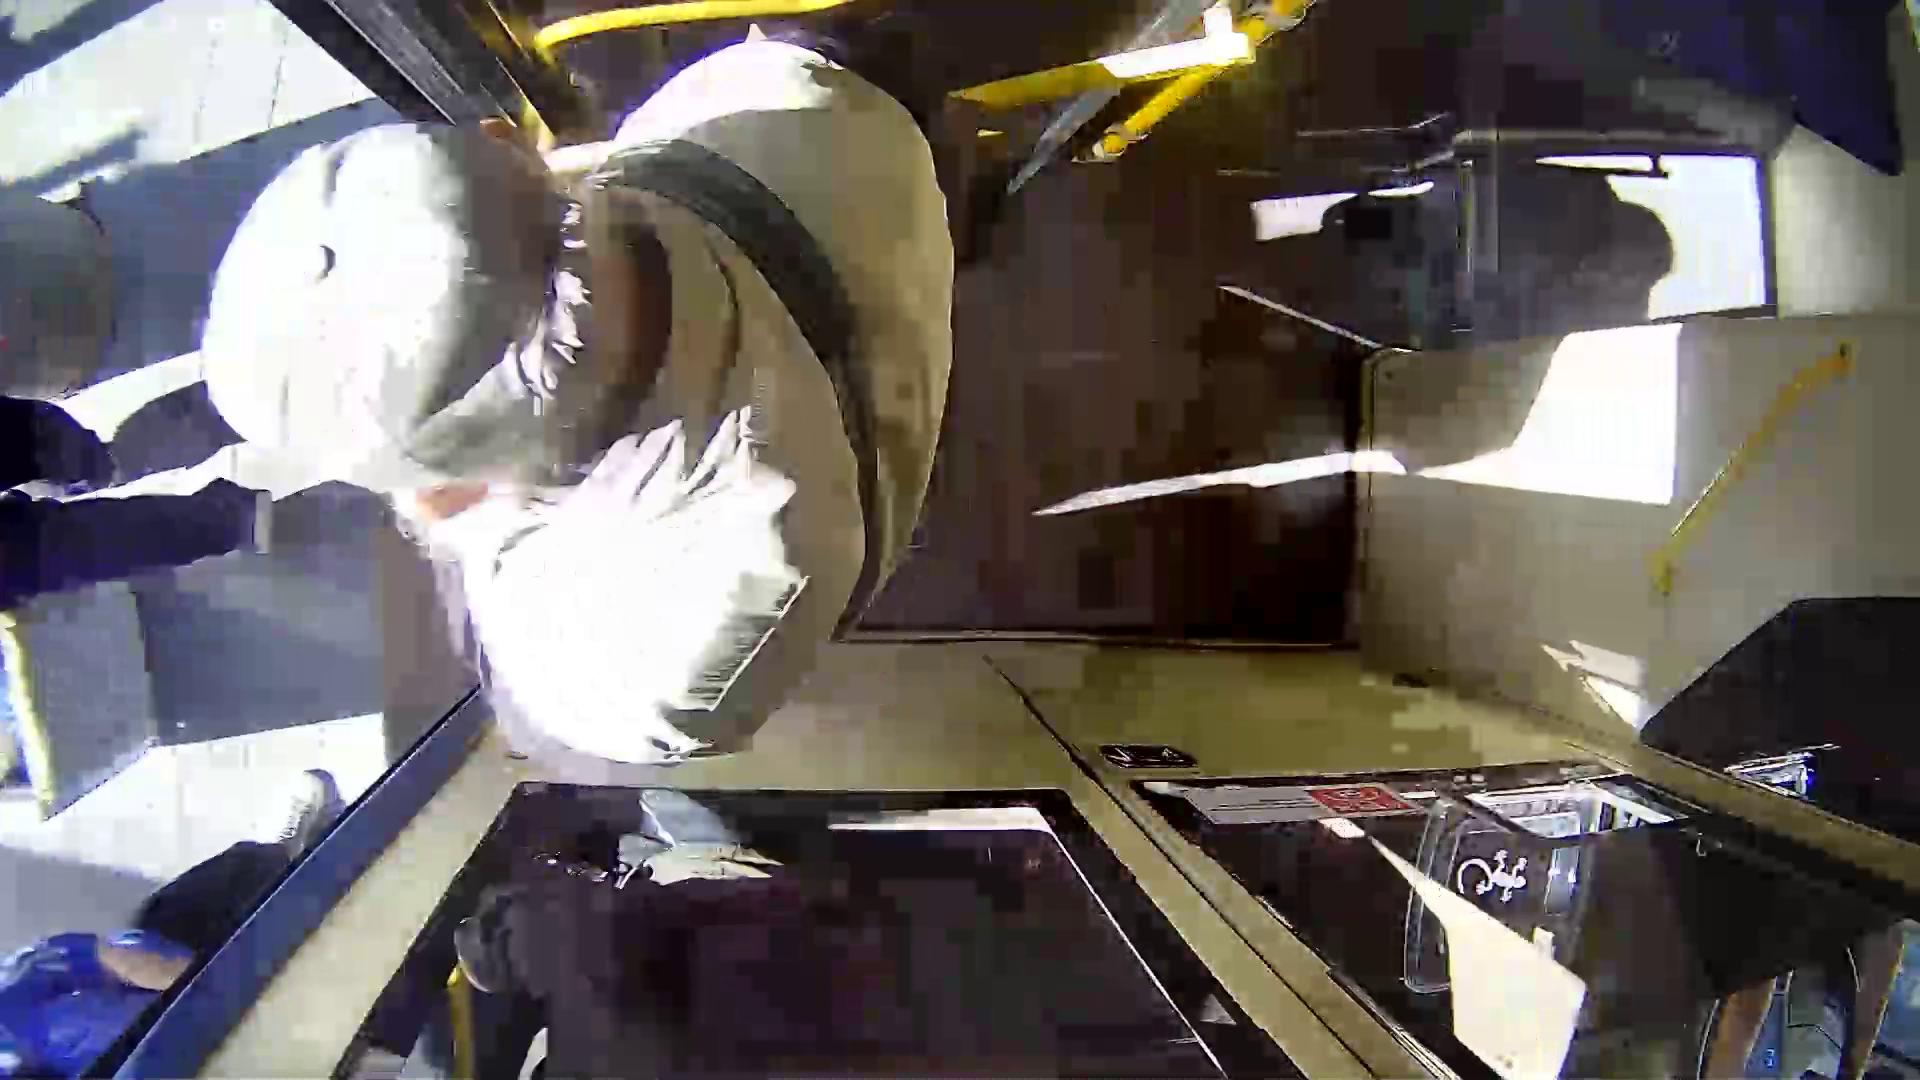person: (146, 3, 950, 782)
